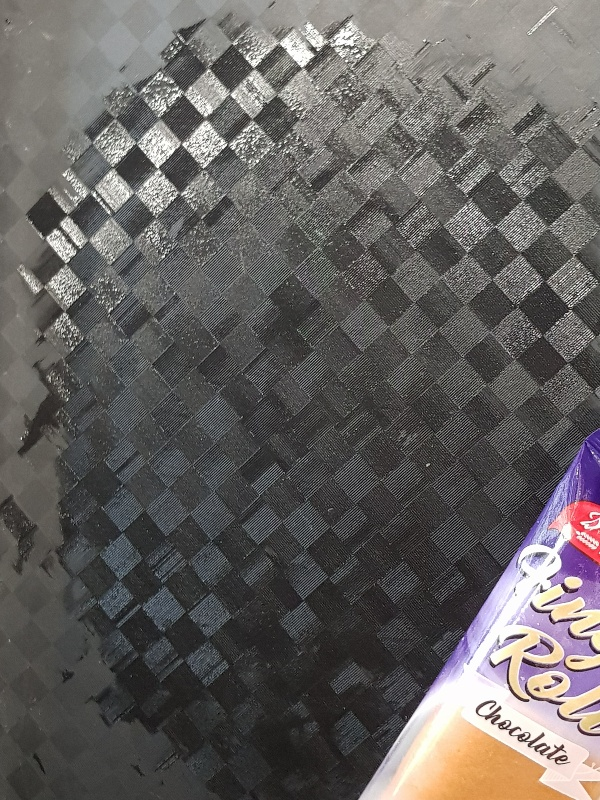Tinges Roll Chocolate: (355, 428, 600, 798)
